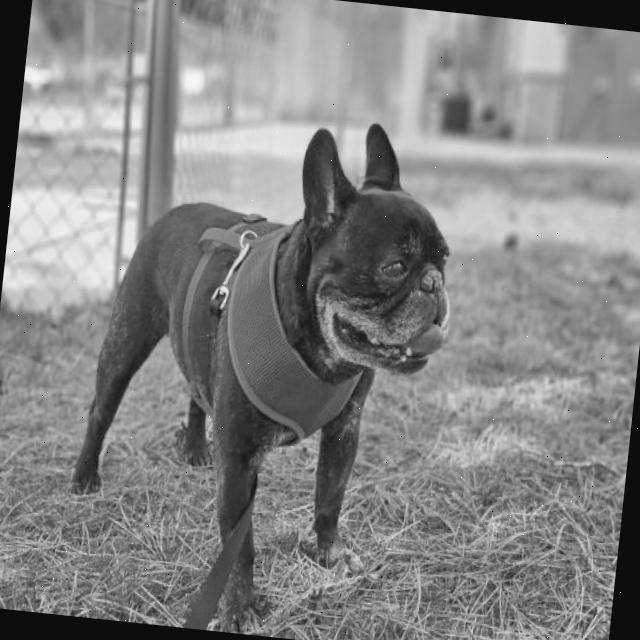french_bulldog_dog: (260, 102, 486, 398)
